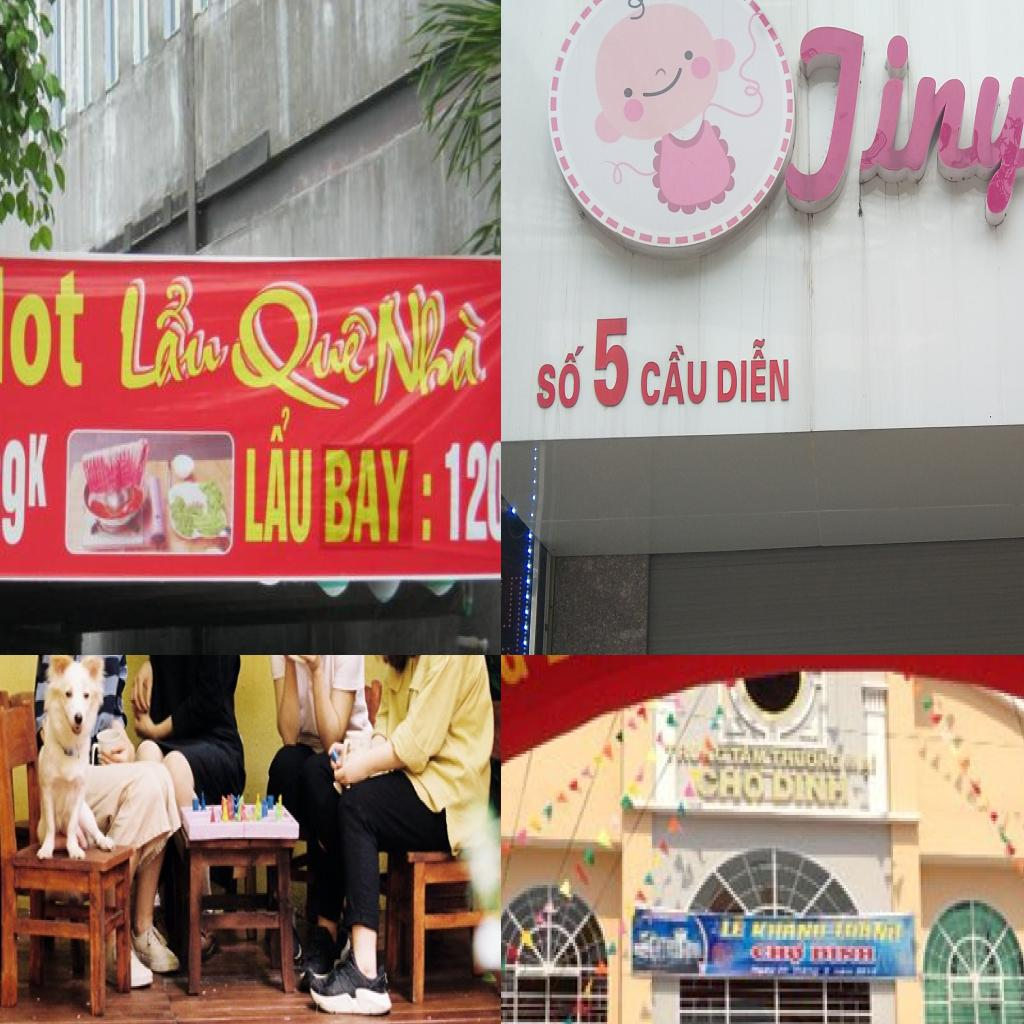text: (779, 16, 1024, 225), (231, 270, 377, 422), (373, 270, 495, 418), (117, 269, 230, 400), (230, 396, 317, 552), (322, 438, 439, 549), (0, 257, 91, 393), (0, 424, 50, 560), (716, 337, 792, 406), (640, 342, 708, 410), (592, 314, 632, 410), (534, 342, 585, 412), (772, 772, 850, 809), (697, 766, 769, 806), (769, 748, 844, 775), (501, 570, 524, 655), (750, 940, 808, 970), (750, 921, 827, 943), (810, 943, 876, 967), (729, 745, 769, 769), (718, 918, 748, 943), (714, 745, 729, 766)
